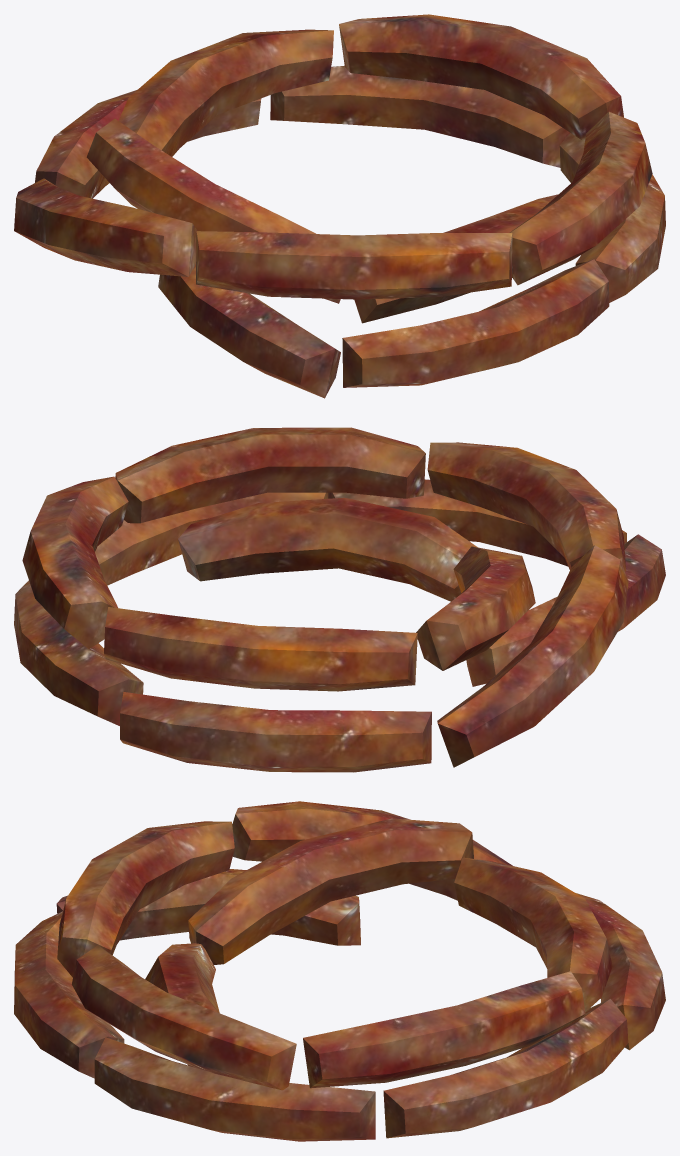
The model's file is Sausage_chain.fbx.
3 renders of one model, top to bottom at view 1: azimuth 30°, elevation 25°; view 2: azimuth 150°, elevation 25°; view 3: azimuth 270°, elevation 25°, orthographic. The views are drawn at different scales.
Parts seen in each view (by area): view 1: Sausage_chain; view 2: Sausage_chain; view 3: Sausage_chain.
Part boxes in pixels (x1,y1,x2,y2): Sausage_chain: [14, 14, 665, 398]; Sausage_chain: [14, 427, 665, 772]; Sausage_chain: [14, 801, 665, 1141].
Bounding box in the file's own units: 0.4197 × 0.0922 × 0.4469.
